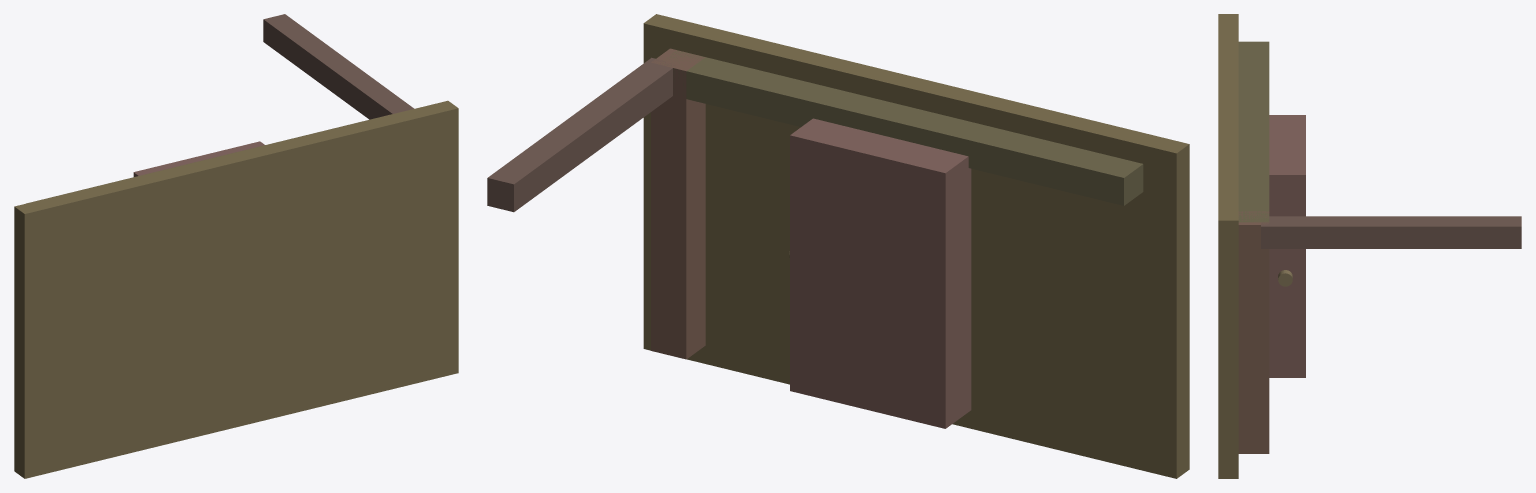
File: table.glb
The picture shows the model from 3 angles, left to right: view 1: azimuth 30°, elevation 25°; view 2: azimuth 150°, elevation 25°; view 3: azimuth 270°, elevation 25°; orthographic projection. The views are drawn at different scales.
Visible parts, largest first — view 1: table_top, table_leg, table_drawer; view 2: table_top, table_drawer, table_apron2, table_apron, table_leg; view 3: table_top, table_leg, table_drawer, table_apron, table_apron2.
Boxes of the visible parts, left/top/right/bottom form: table_top: left=14, top=100, right=458, bottom=478; table_leg: left=263, top=14, right=414, bottom=119; table_drawer: left=133, top=141, right=264, bottom=176; table_top: left=643, top=14, right=1189, bottom=478; table_drawer: left=790, top=118, right=971, bottom=428; table_apron2: left=662, top=50, right=1143, bottom=205; table_apron: left=651, top=48, right=705, bottom=359; table_leg: left=487, top=57, right=675, bottom=212; table_top: left=1218, top=14, right=1238, bottom=478; table_leg: left=1261, top=216, right=1521, bottom=248; table_drawer: left=1269, top=115, right=1305, bottom=377; table_apron: left=1238, top=211, right=1269, bottom=453; table_apron2: left=1238, top=41, right=1269, bottom=222.
Size of the model in its own units: 1.2 by 0.7 by 0.745.
